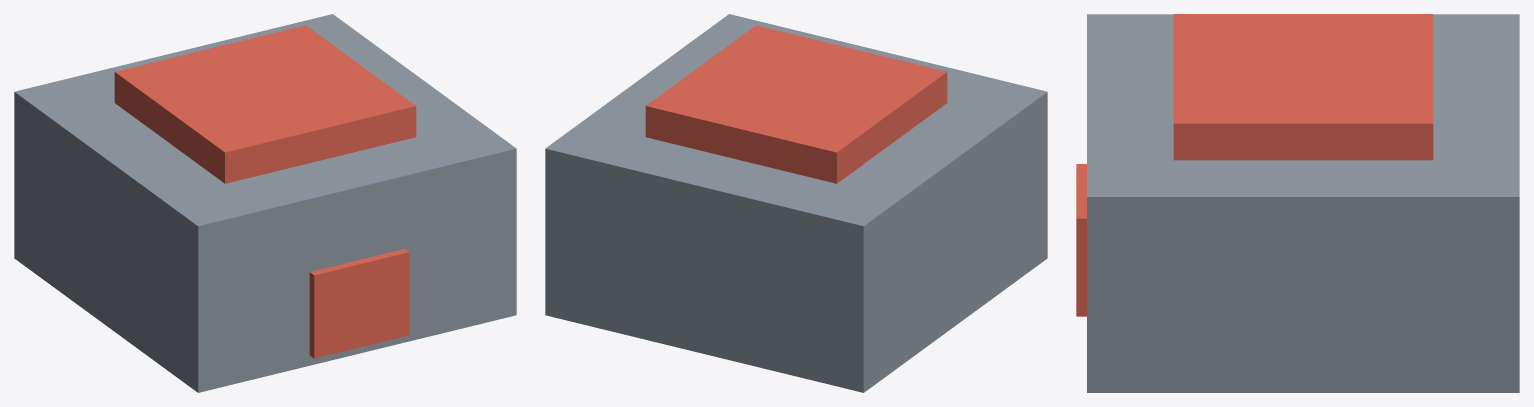
The model's file is SU_Bunker_LOD0.glb.
3 renders of one model, left to right at view 1: azimuth 30°, elevation 25°; view 2: azimuth 150°, elevation 25°; view 3: azimuth 270°, elevation 25°, orthographic. The views are drawn at different scales.
Visible parts, largest first — view 1: EntranceGate; view 2: EntranceGate; view 3: EntranceGate.
Boxes of the visible parts, x1=… form: EntranceGate: x1=14, y1=14, x2=516, y2=392; EntranceGate: x1=545, y1=14, x2=1047, y2=392; EntranceGate: x1=1076, y1=14, x2=1519, y2=392.
Size of the model in its own units: 400 by 238 by 410.
